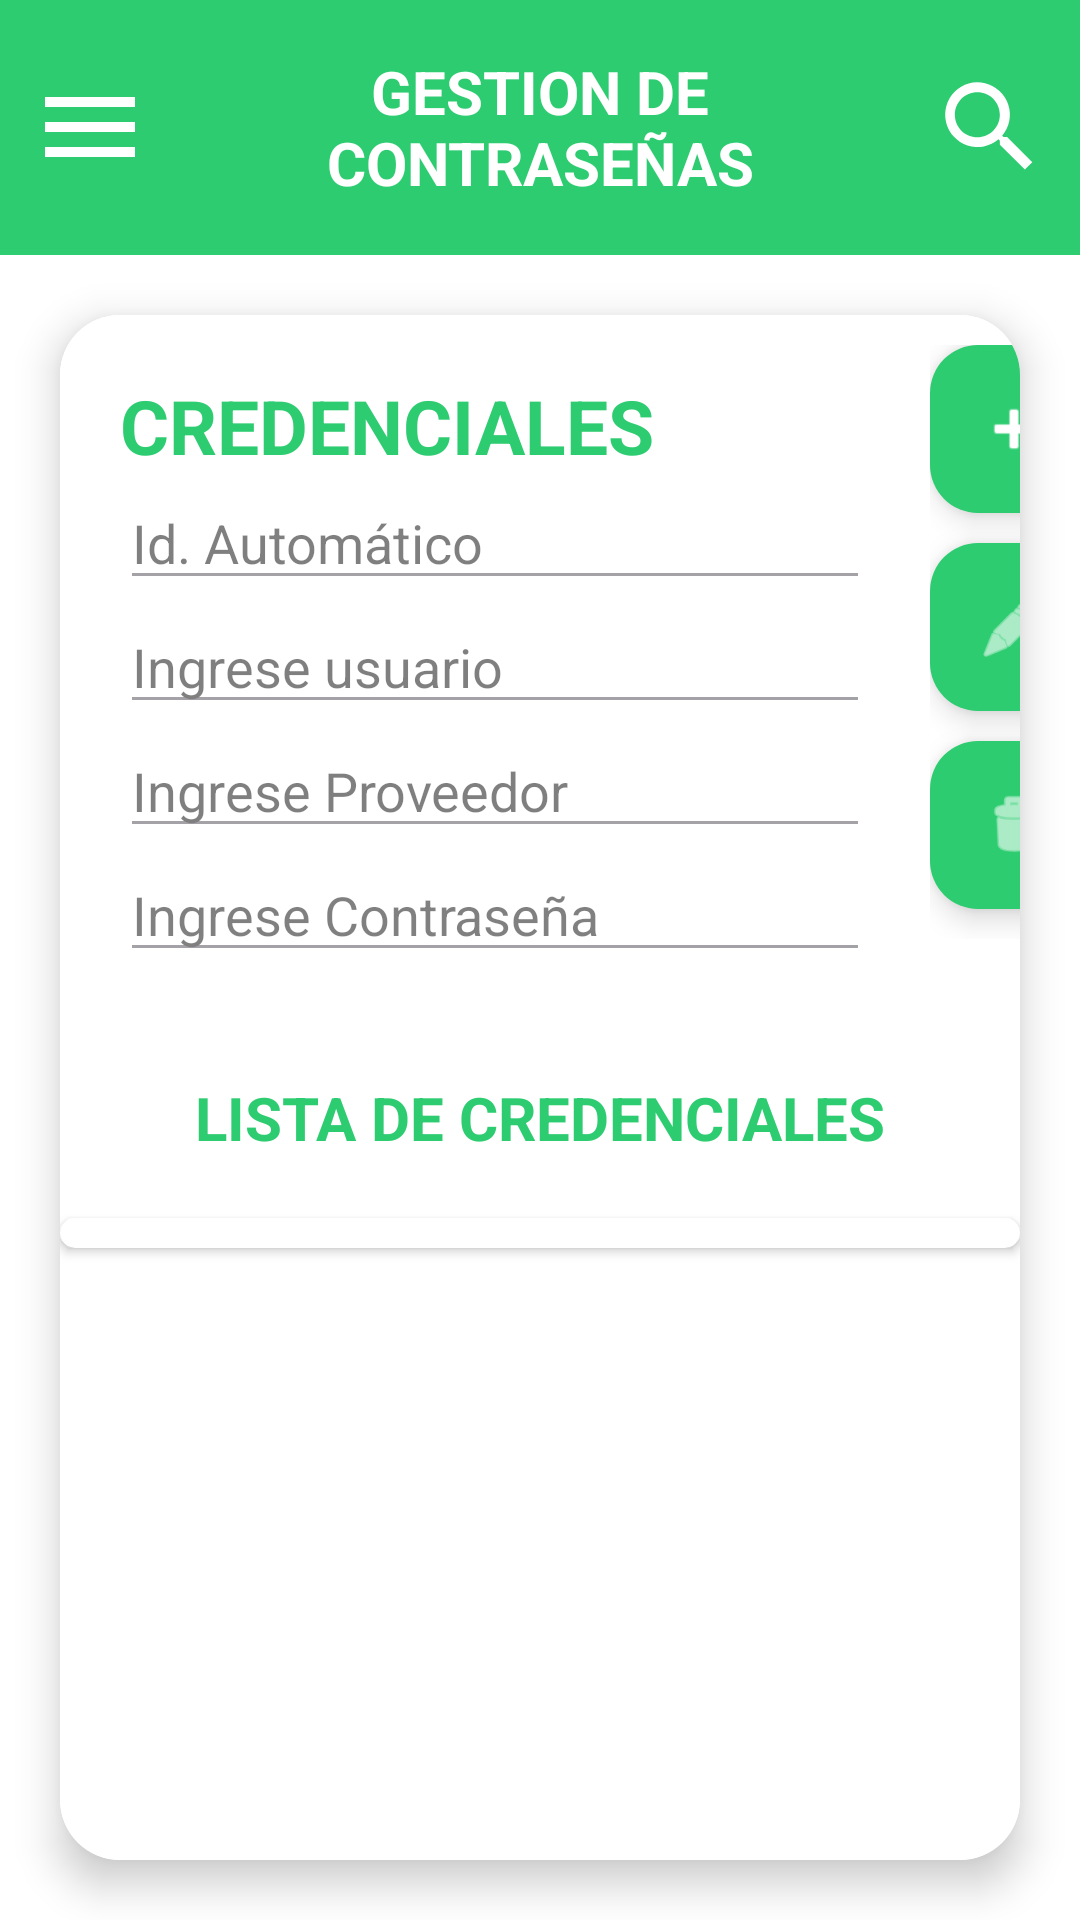

Icon click points for this 1080x1920 phone screenshot, format [x,y]:
Buscar: [988,126]
Menú: [90,127]
